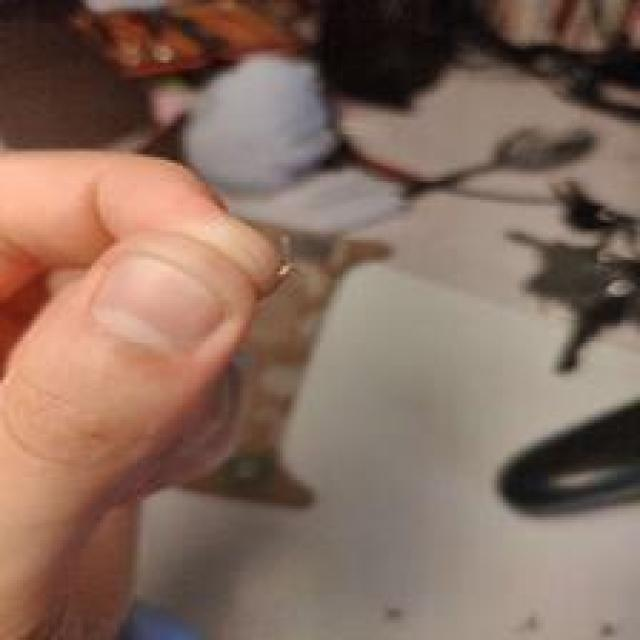Culex: (503, 176, 640, 373)
